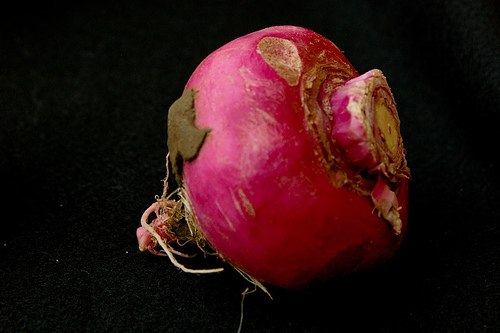turnip: (130, 17, 415, 332)
